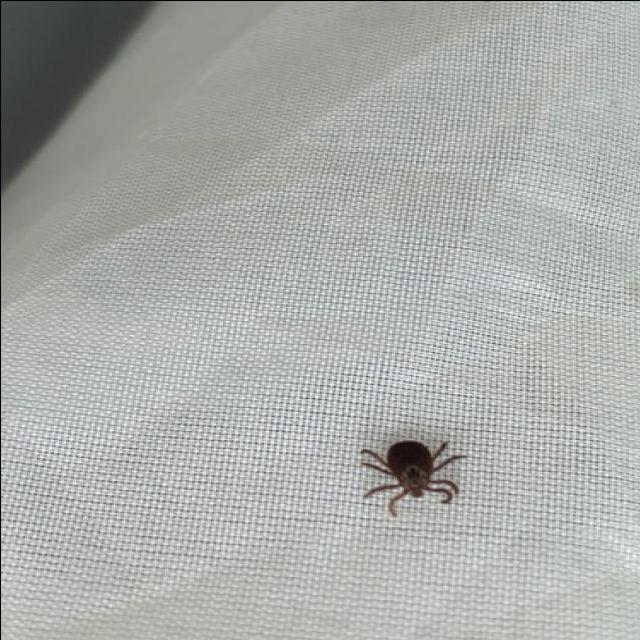Dermacentor Reticulatus-F: (358, 438, 466, 517)
